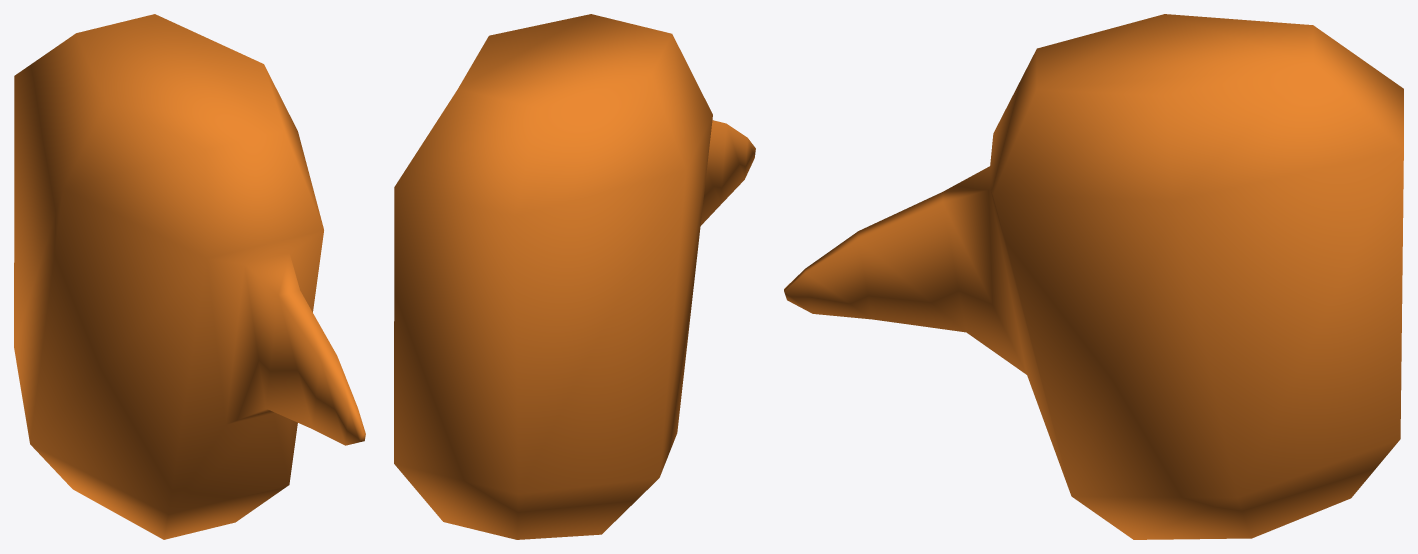
The model's file is Char_FL_MG_Body2.FBX.
The picture shows the model from 3 angles, left to right: view 1: azimuth 30°, elevation 25°; view 2: azimuth 150°, elevation 25°; view 3: azimuth 270°, elevation 25°; orthographic projection. The views are drawn at different scales.
Visible parts, largest first — view 1: Cylinder011; view 2: Cylinder011; view 3: Cylinder011.
Part boxes in pixels (bbox=[...]): Cylinder011: bbox=[14, 14, 365, 539]; Cylinder011: bbox=[394, 14, 755, 539]; Cylinder011: bbox=[784, 14, 1403, 539].
Size of the model in its own units: 15.61 by 27.47 by 32.45.
